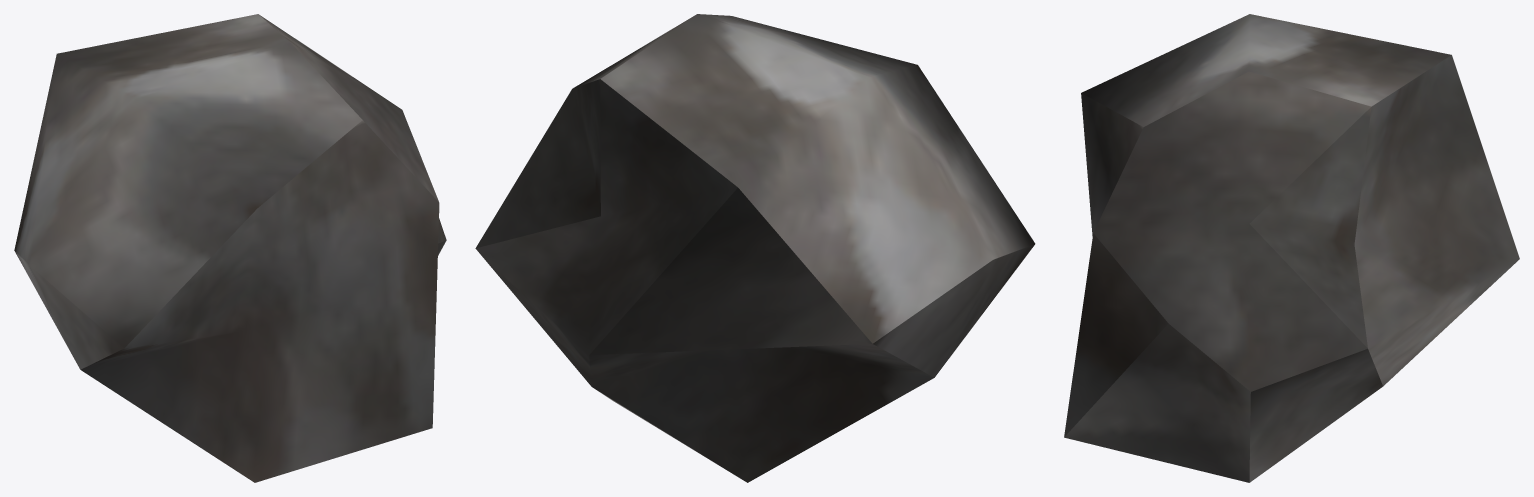
Rendered from SM_Asteromoche.fbx.
3 views of the same model, side by side, from view 1: azimuth 30°, elevation 25°; view 2: azimuth 150°, elevation 25°; view 3: azimuth 270°, elevation 25° (orthographic). The views are drawn at different scales.
Visible parts, largest first — view 1: Sphere001; view 2: Sphere001; view 3: Sphere001.
Boxes of the visible parts, x1,y1,x2,y2 form: Sphere001: (14, 14, 446, 482); Sphere001: (475, 14, 1035, 482); Sphere001: (1064, 14, 1519, 482).
Bounding box in the file's own units: 70.22 × 59.82 × 64.42.
